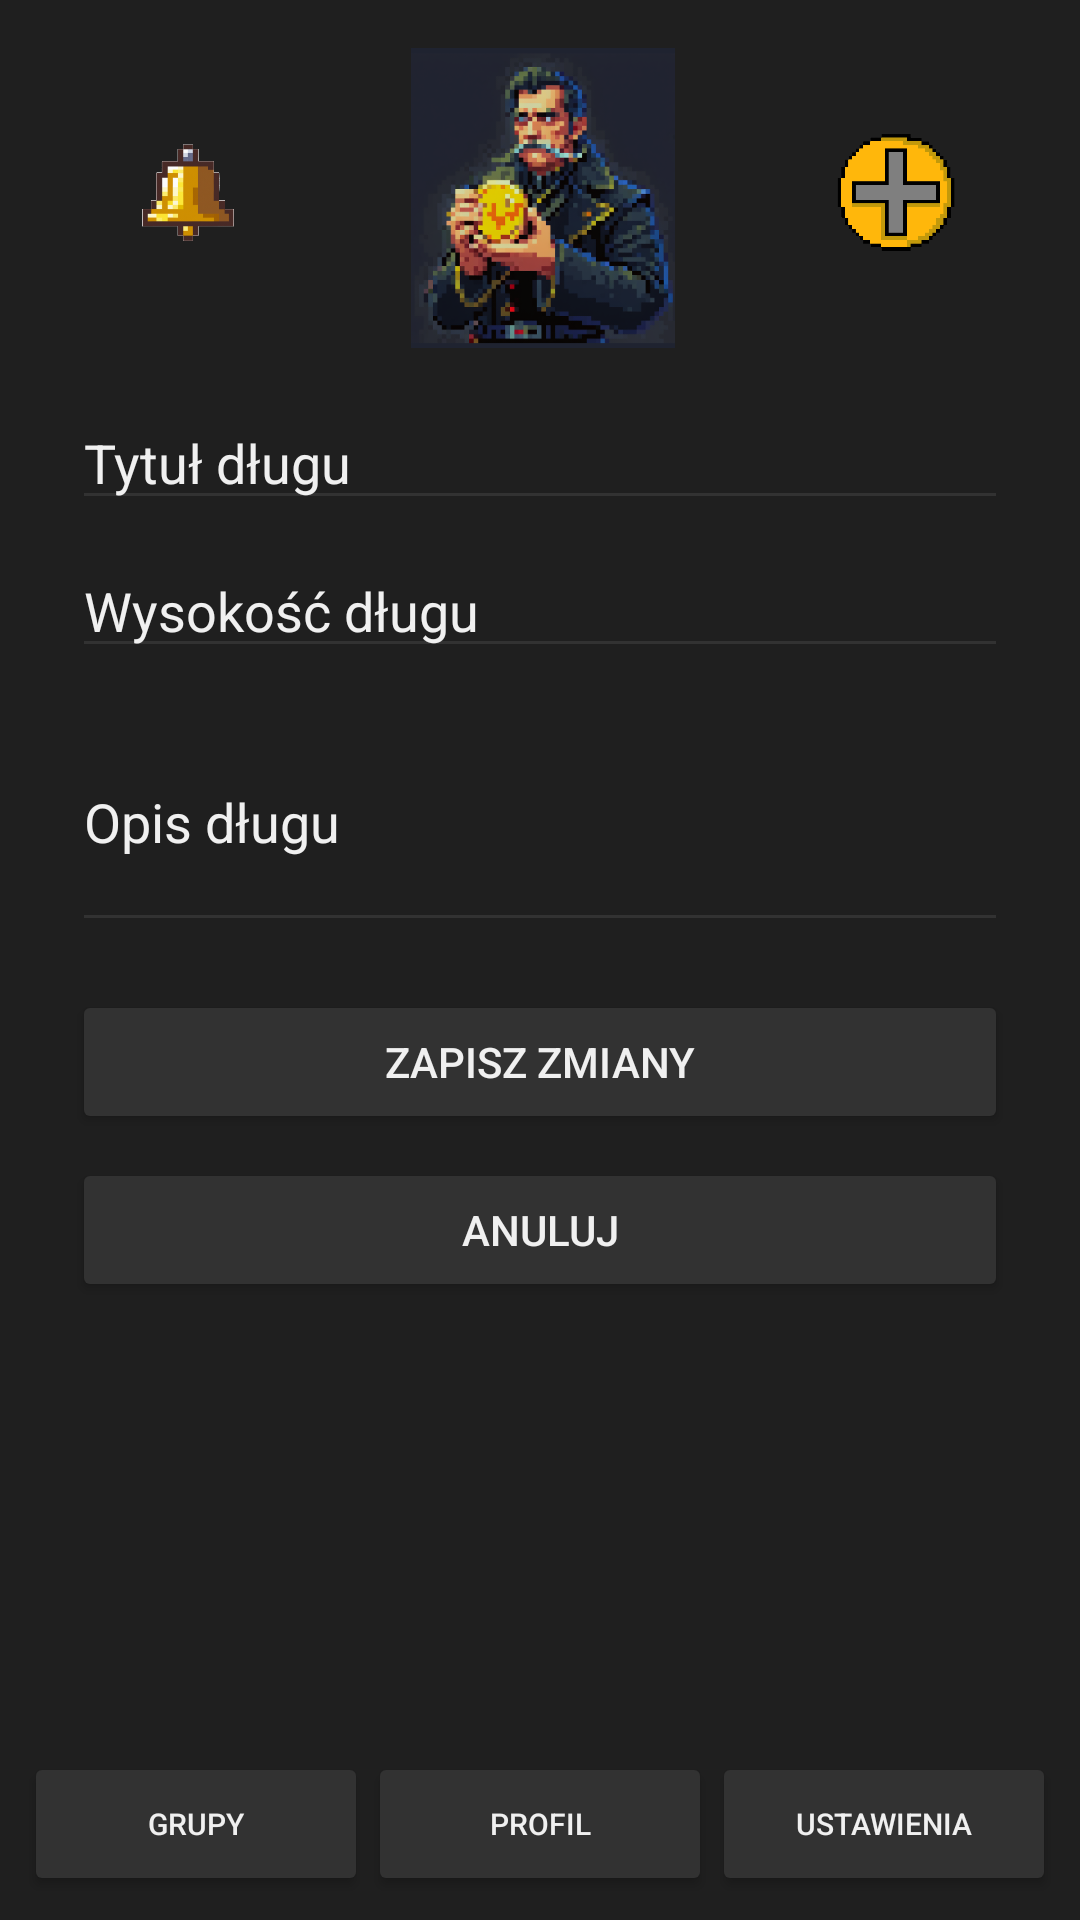

Screen size 1080*1920. Icon name, then its box in pixels as (x1, y1, x2, y2):
Dodawanie Długów: (838, 134, 954, 251)
Notifications Icon: (142, 144, 234, 241)
